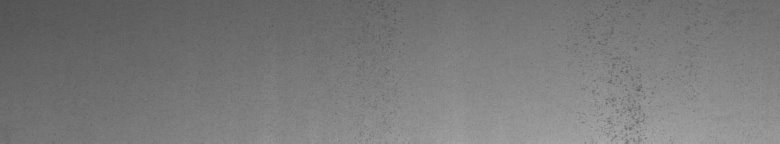ib: (582, 36, 654, 136)
